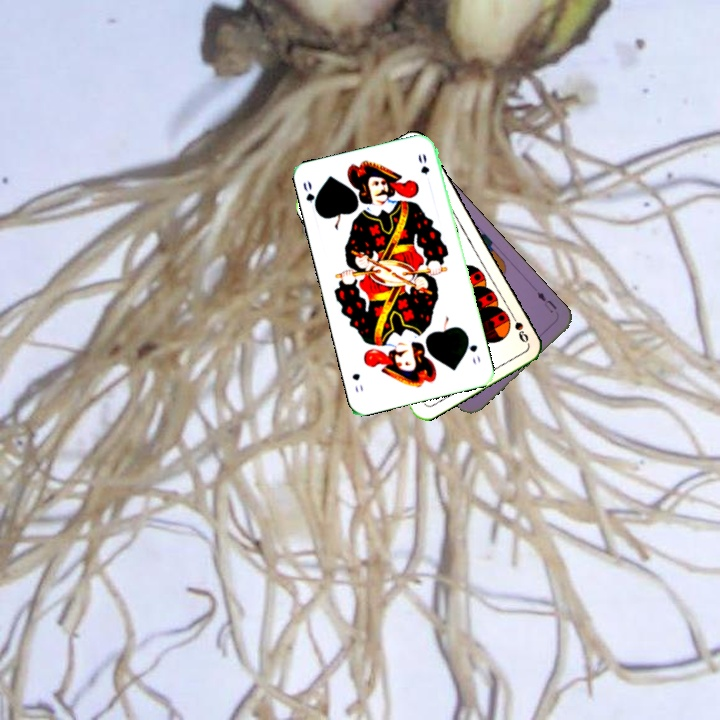EU: (532, 287, 559, 316)
GO: (299, 176, 321, 216), (463, 332, 483, 367)
S9: (503, 308, 531, 345)
